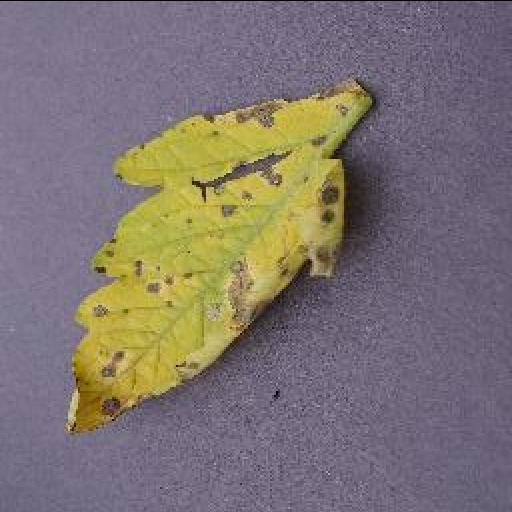disease_tomato: (60, 76, 380, 436)
